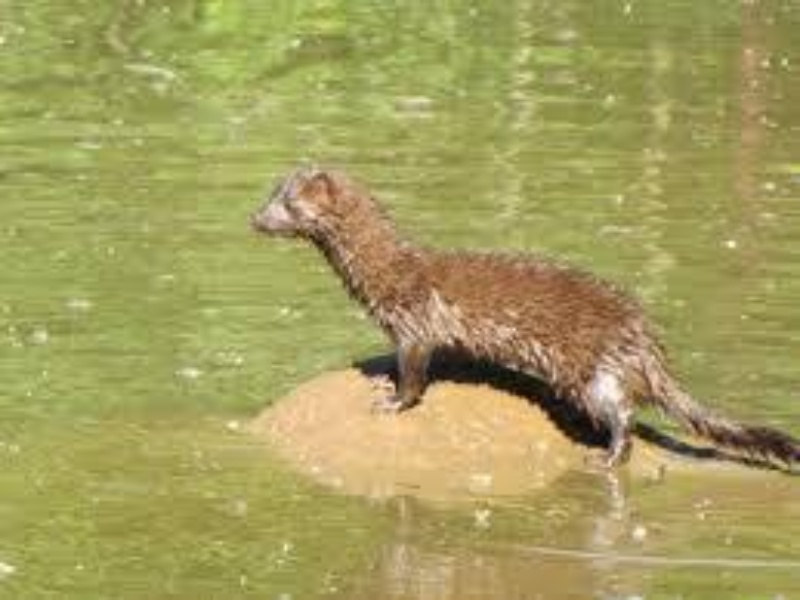minkish: (247, 156, 800, 473)
